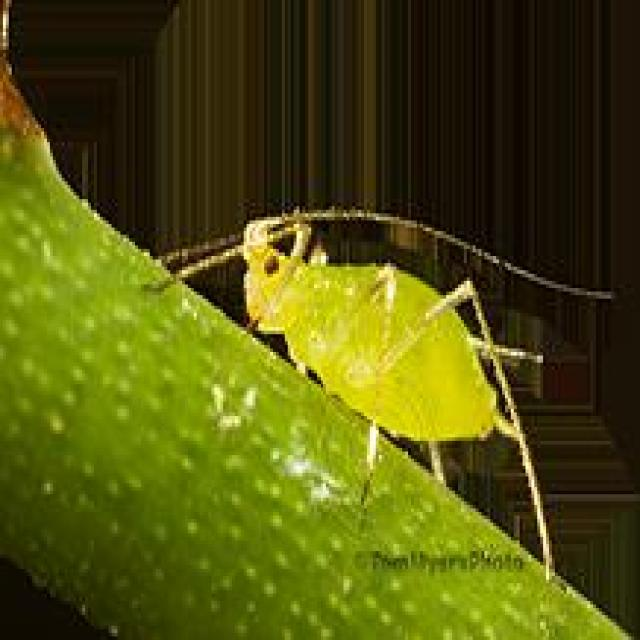Aphids: (120, 164, 590, 590)
